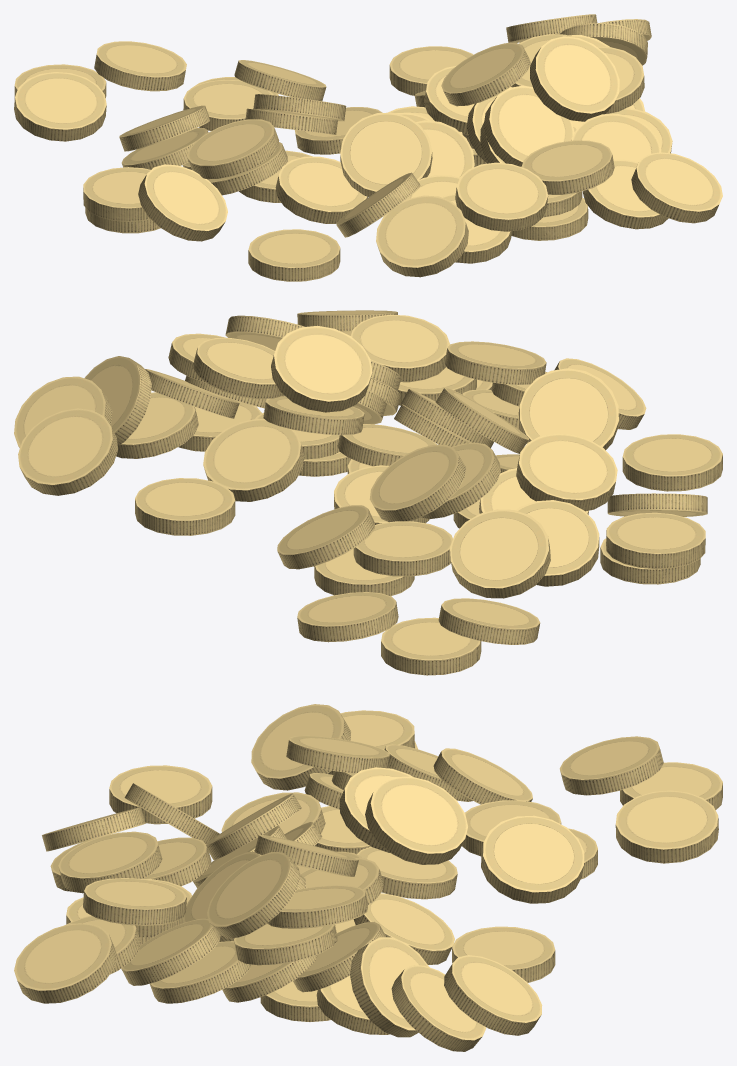
Rendered from Coin_C.fbx.
3 renders of one model, top to bottom at view 1: azimuth 30°, elevation 25°; view 2: azimuth 150°, elevation 25°; view 3: azimuth 270°, elevation 25°, orthographic. The views are drawn at different scales.
Parts seen in each view (by area): view 1: Cylinder028; view 2: Cylinder028; view 3: Cylinder028.
Boxes of the visible parts, x1=… form: Cylinder028: x1=14, y1=14, x2=722, y2=281; Cylinder028: x1=14, y1=310, x2=722, y2=675; Cylinder028: x1=14, y1=704, x2=722, y2=1051.
Bounding box in the file's own units: 40.68 × 37.77 × 7.15.
